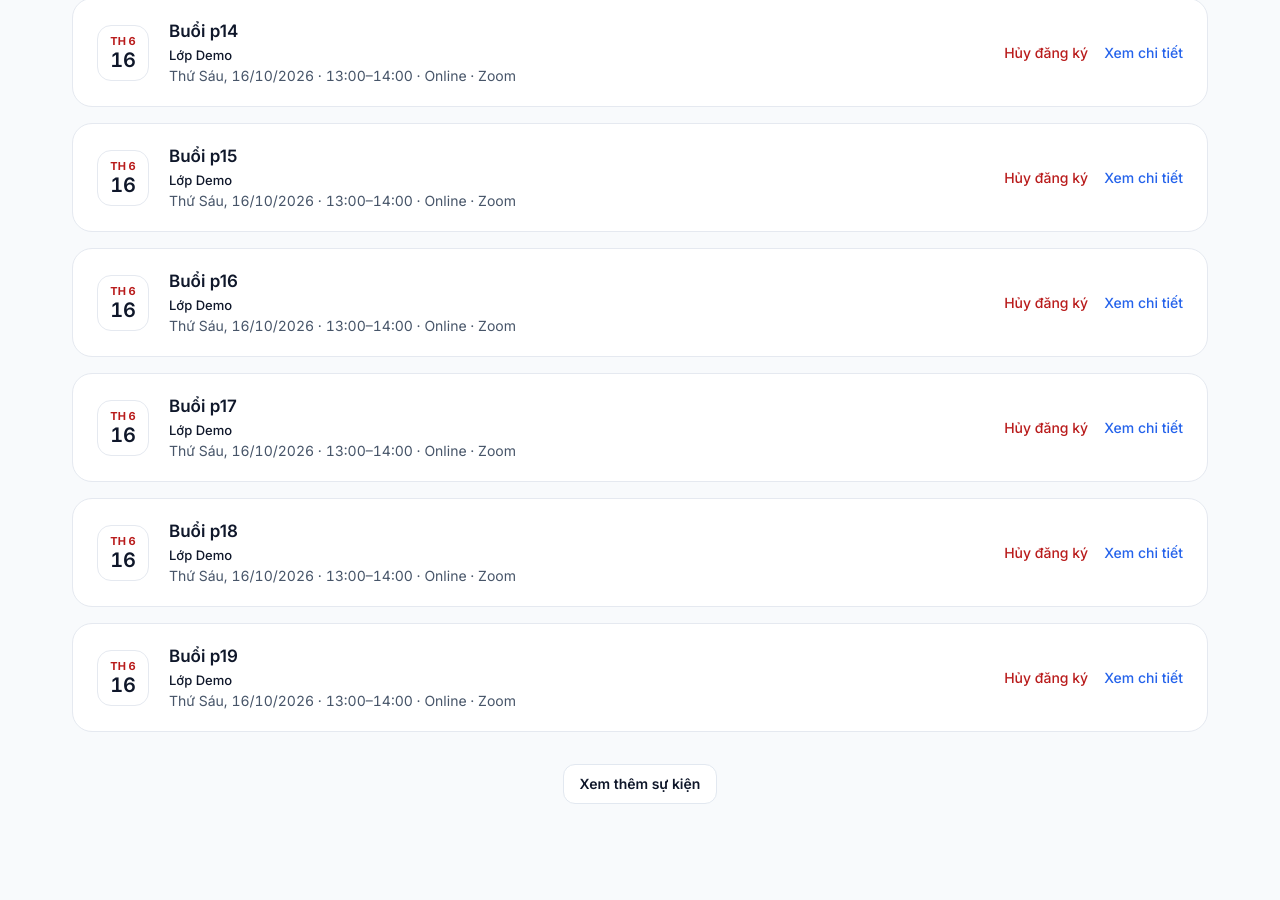
Test: MyEventsPage › pages with "Xem thêm sự kiện"
The image size is (1280, 900).
(page scrolled)
Click the button "Xem thêm sự kiện" at (640, 784), box [563, 764, 717, 804]
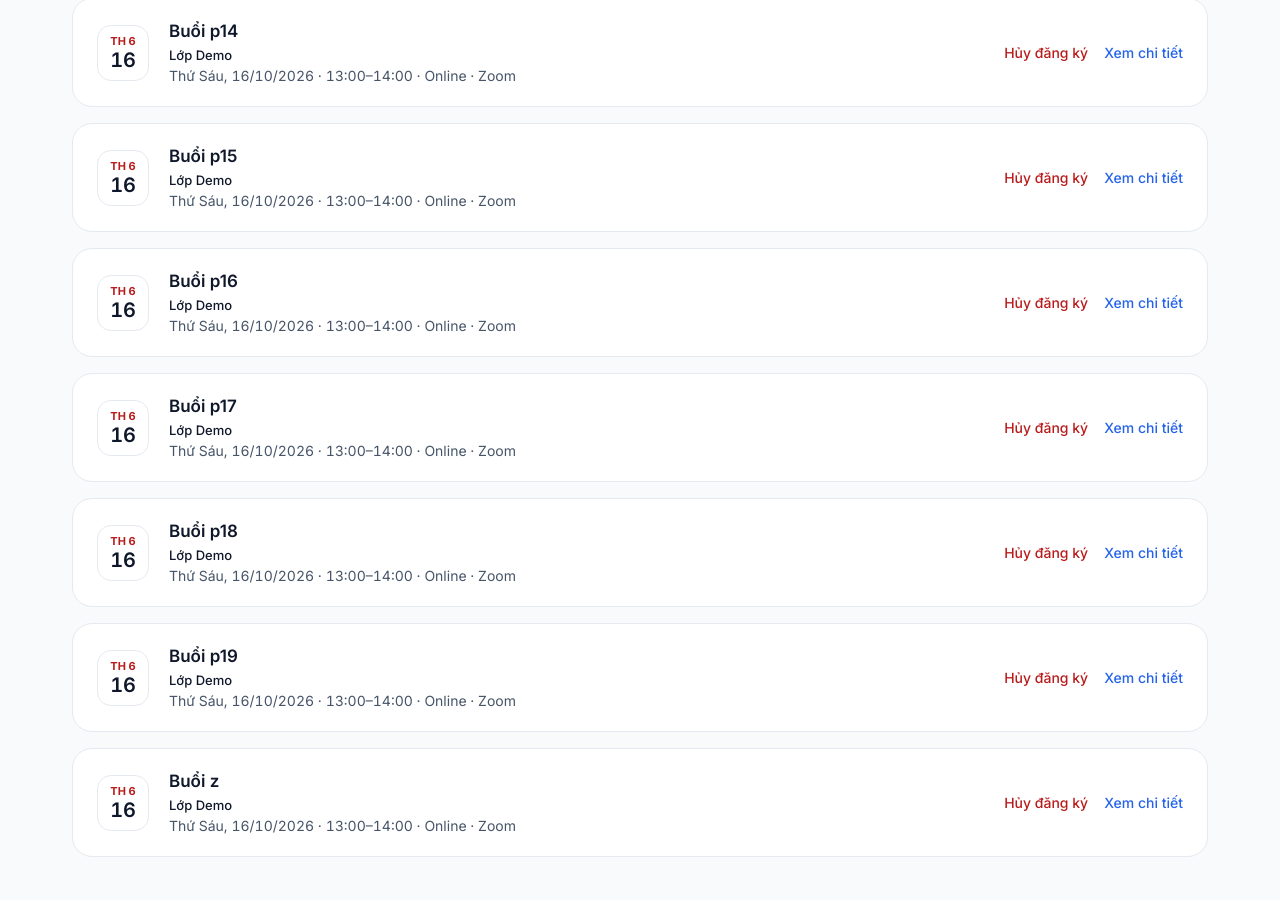
Now the link "Buổi z" is shown, box [169, 771, 219, 791]
Now the button "Xem thêm sự kiện" is gone
